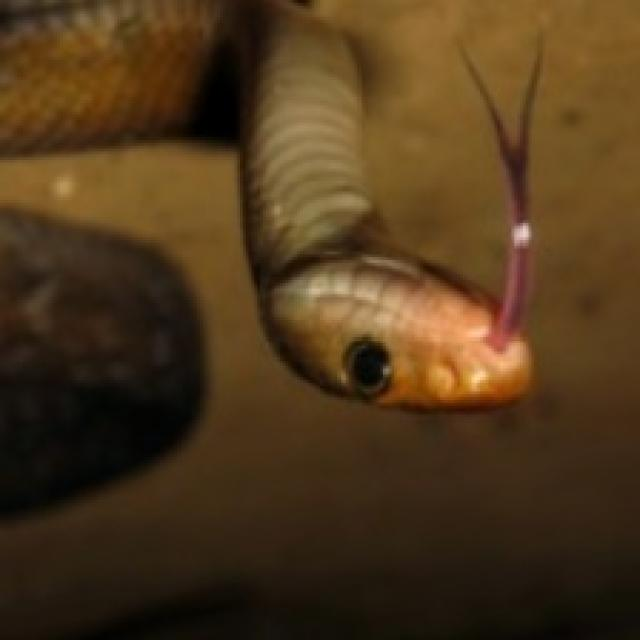reddish rat snake: (0, 0, 534, 406), (0, 0, 529, 406), (243, 3, 529, 406), (0, 206, 206, 511)
